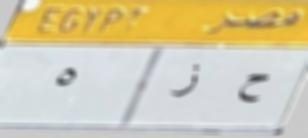5: (50, 61, 82, 95)
7aa: (235, 70, 269, 108)
zay: (167, 61, 204, 103)
